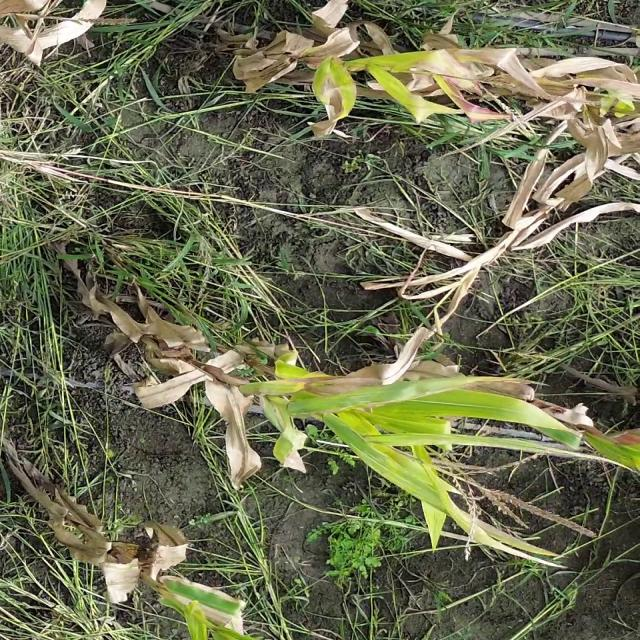northern-leaf-blight: (156, 576, 274, 635), (306, 56, 368, 150)
